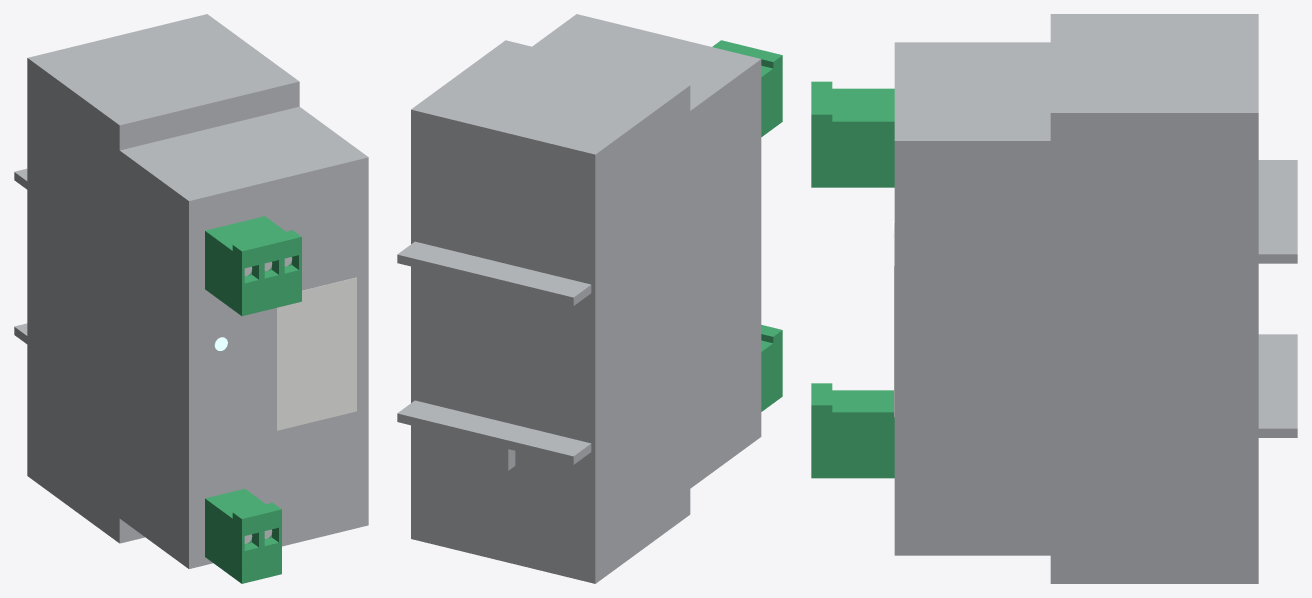
The model's file is psu-ac-24v-2a5.glb.
3 renders of one model, left to right at view 1: azimuth 30°, elevation 25°; view 2: azimuth 150°, elevation 25°; view 3: azimuth 270°, elevation 25°, orthographic. The views are drawn at different scales.
Visible parts, largest first — view 1: body; view 2: body; view 3: body.
Part boxes in pixels (<box>): body: <box>14,14,368,583</box>; body: <box>397,14,782,583</box>; body: <box>811,14,1297,583</box>.
Size of what is drawn, in the model's own units: 0.045 by 0.1 by 0.0935.
